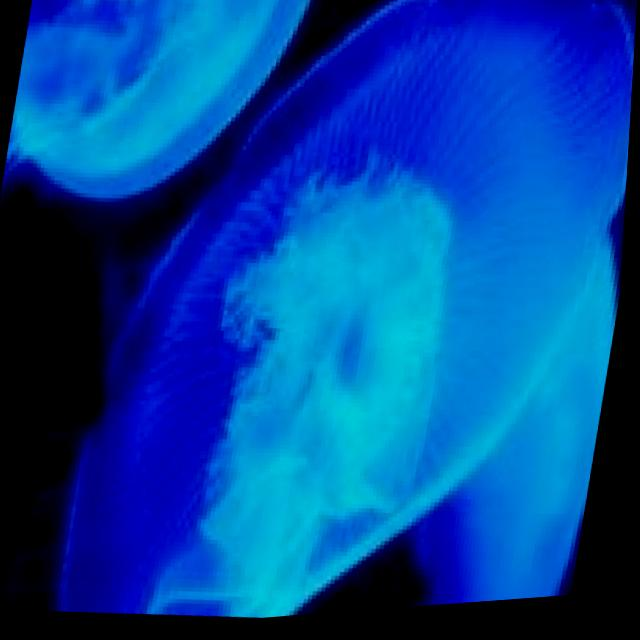Moon-jellyfish: (53, 0, 640, 635)
